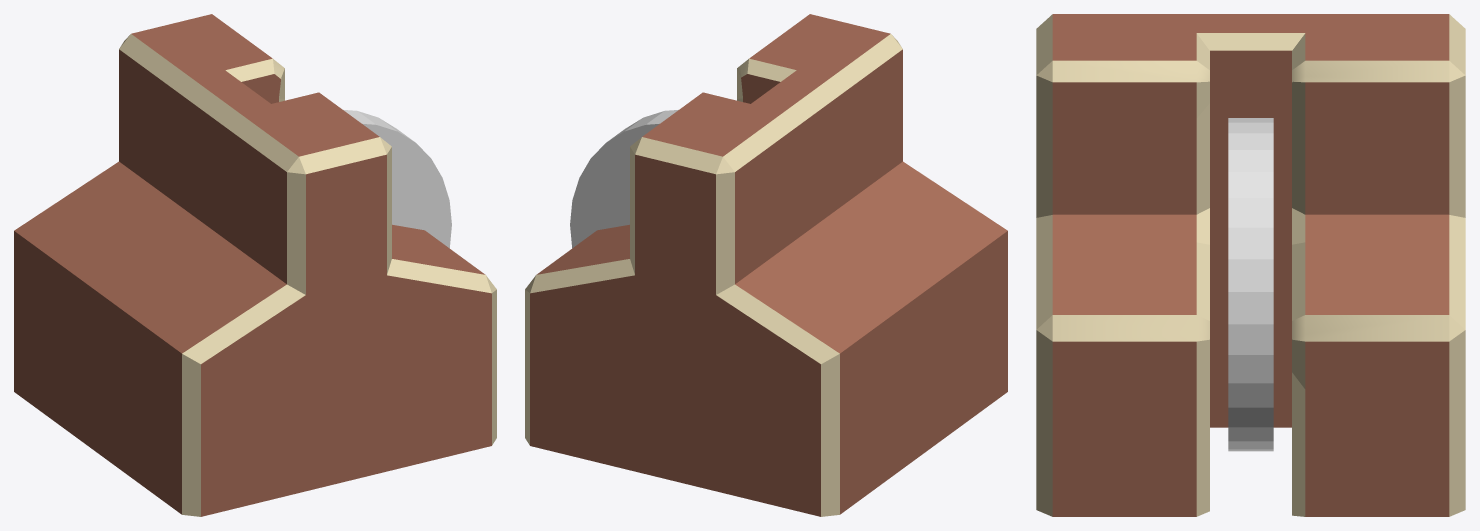
Rendered from wooden miner.glb.
3 renders of one model, left to right at view 1: azimuth 30°, elevation 25°; view 2: azimuth 150°, elevation 25°; view 3: azimuth 270°, elevation 25°, orthographic. The views are drawn at different scales.
Visible parts, largest first — view 1: miner, 円柱; view 2: miner, 円柱; view 3: miner, 円柱.
Boxes of the visible parts, x1,y1,x2,y2 form: miner: (14,14,496,516); 円柱: (343,109,451,248); miner: (525,14,1007,516); 円柱: (570,109,678,248); miner: (1036,14,1465,516); 円柱: (1228,118,1273,451).
Bounding box in the file's own units: 1.09 × 1 × 1.
